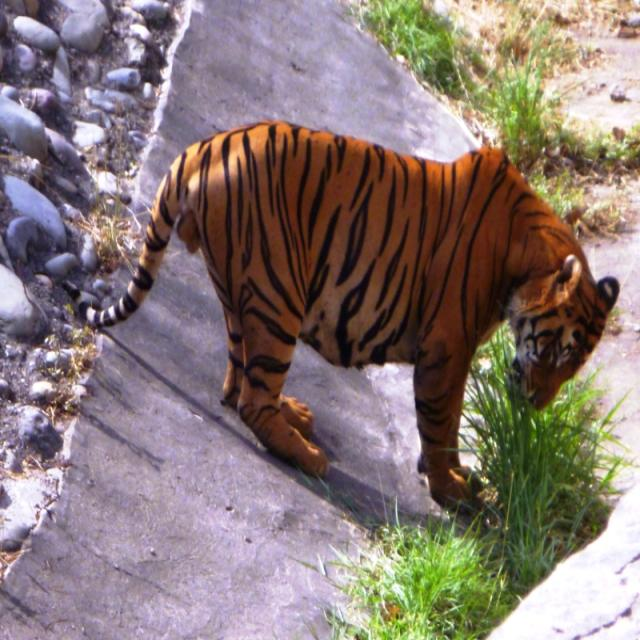Tiger: (89, 117, 614, 510)
